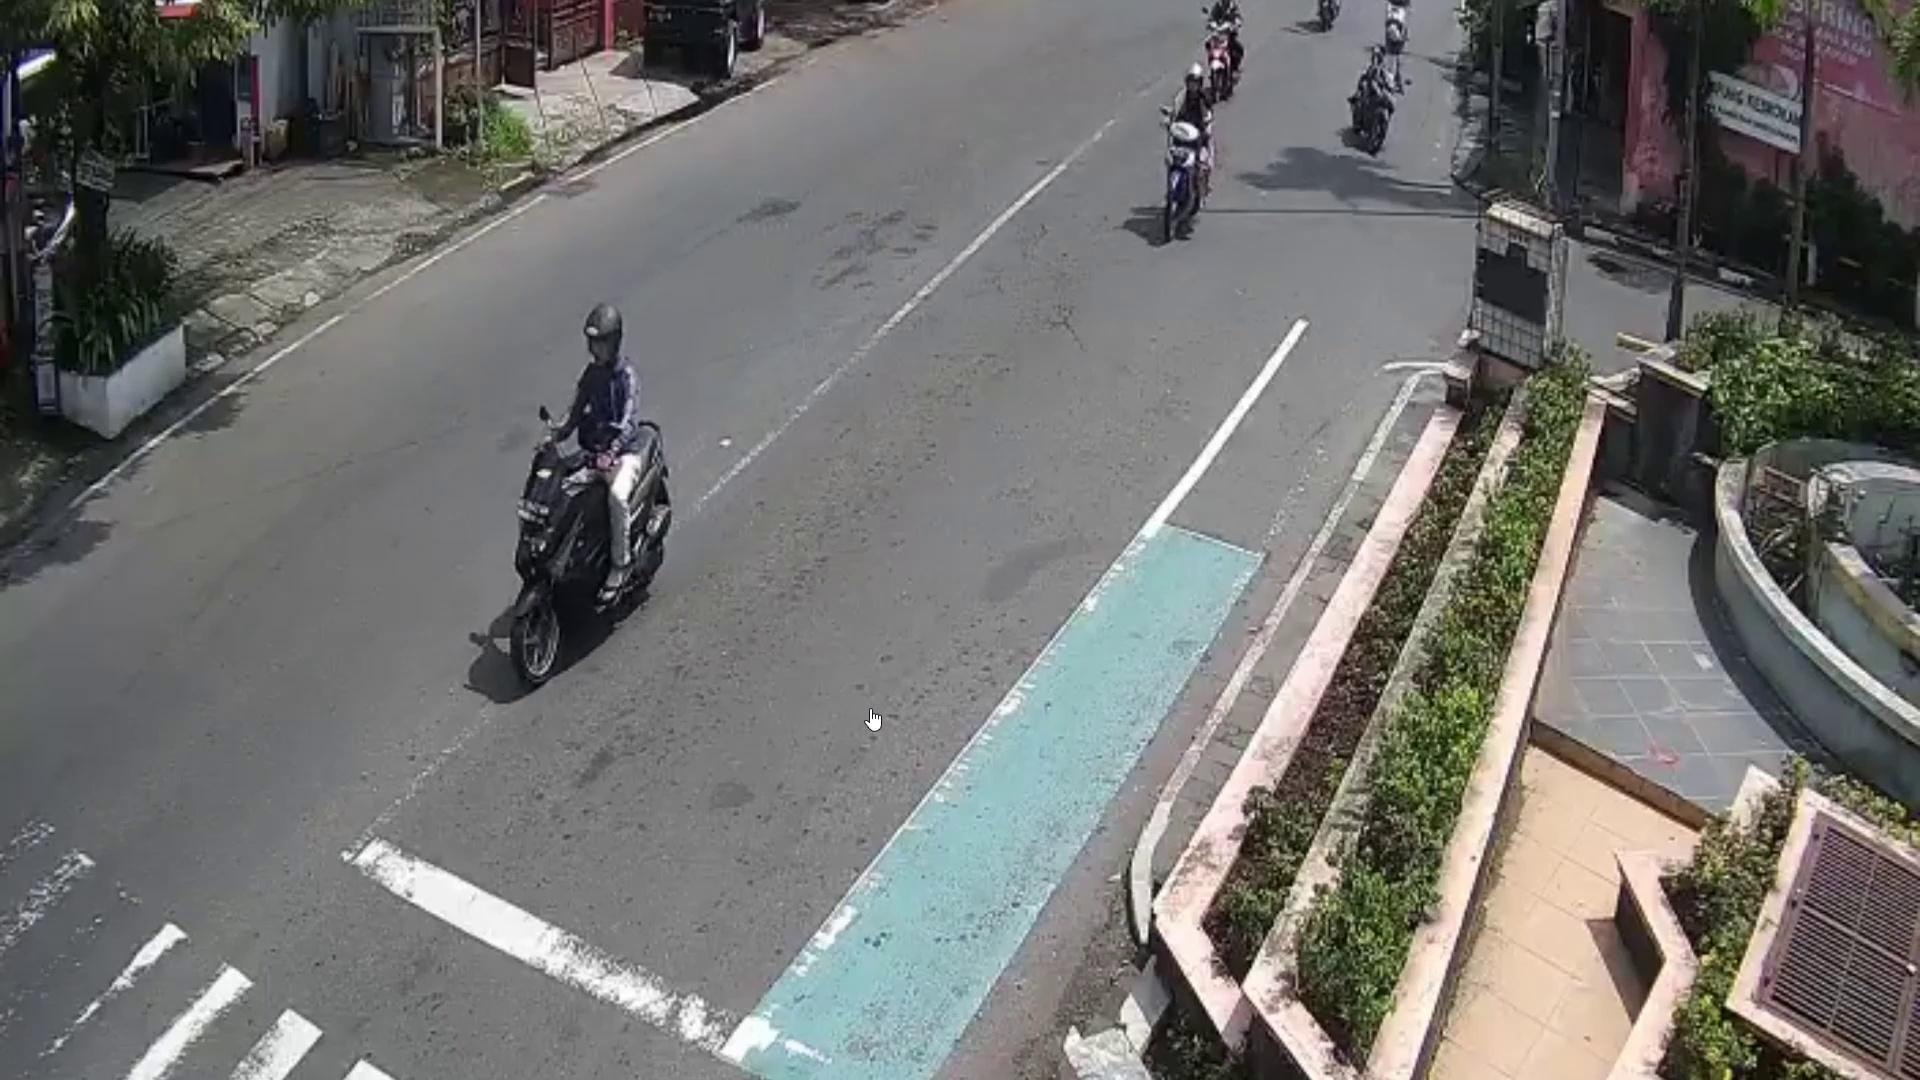motorbike: (517, 418, 673, 683), (1166, 120, 1205, 247), (1354, 61, 1396, 156)
